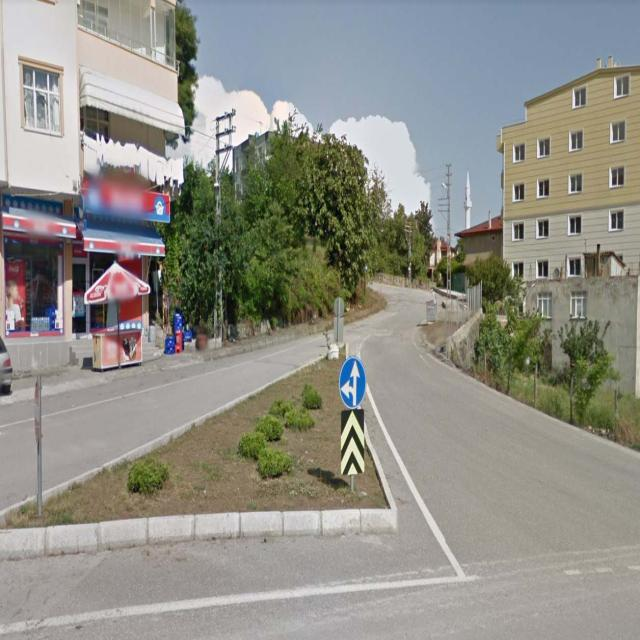ilerisol: (338, 358, 366, 409)
